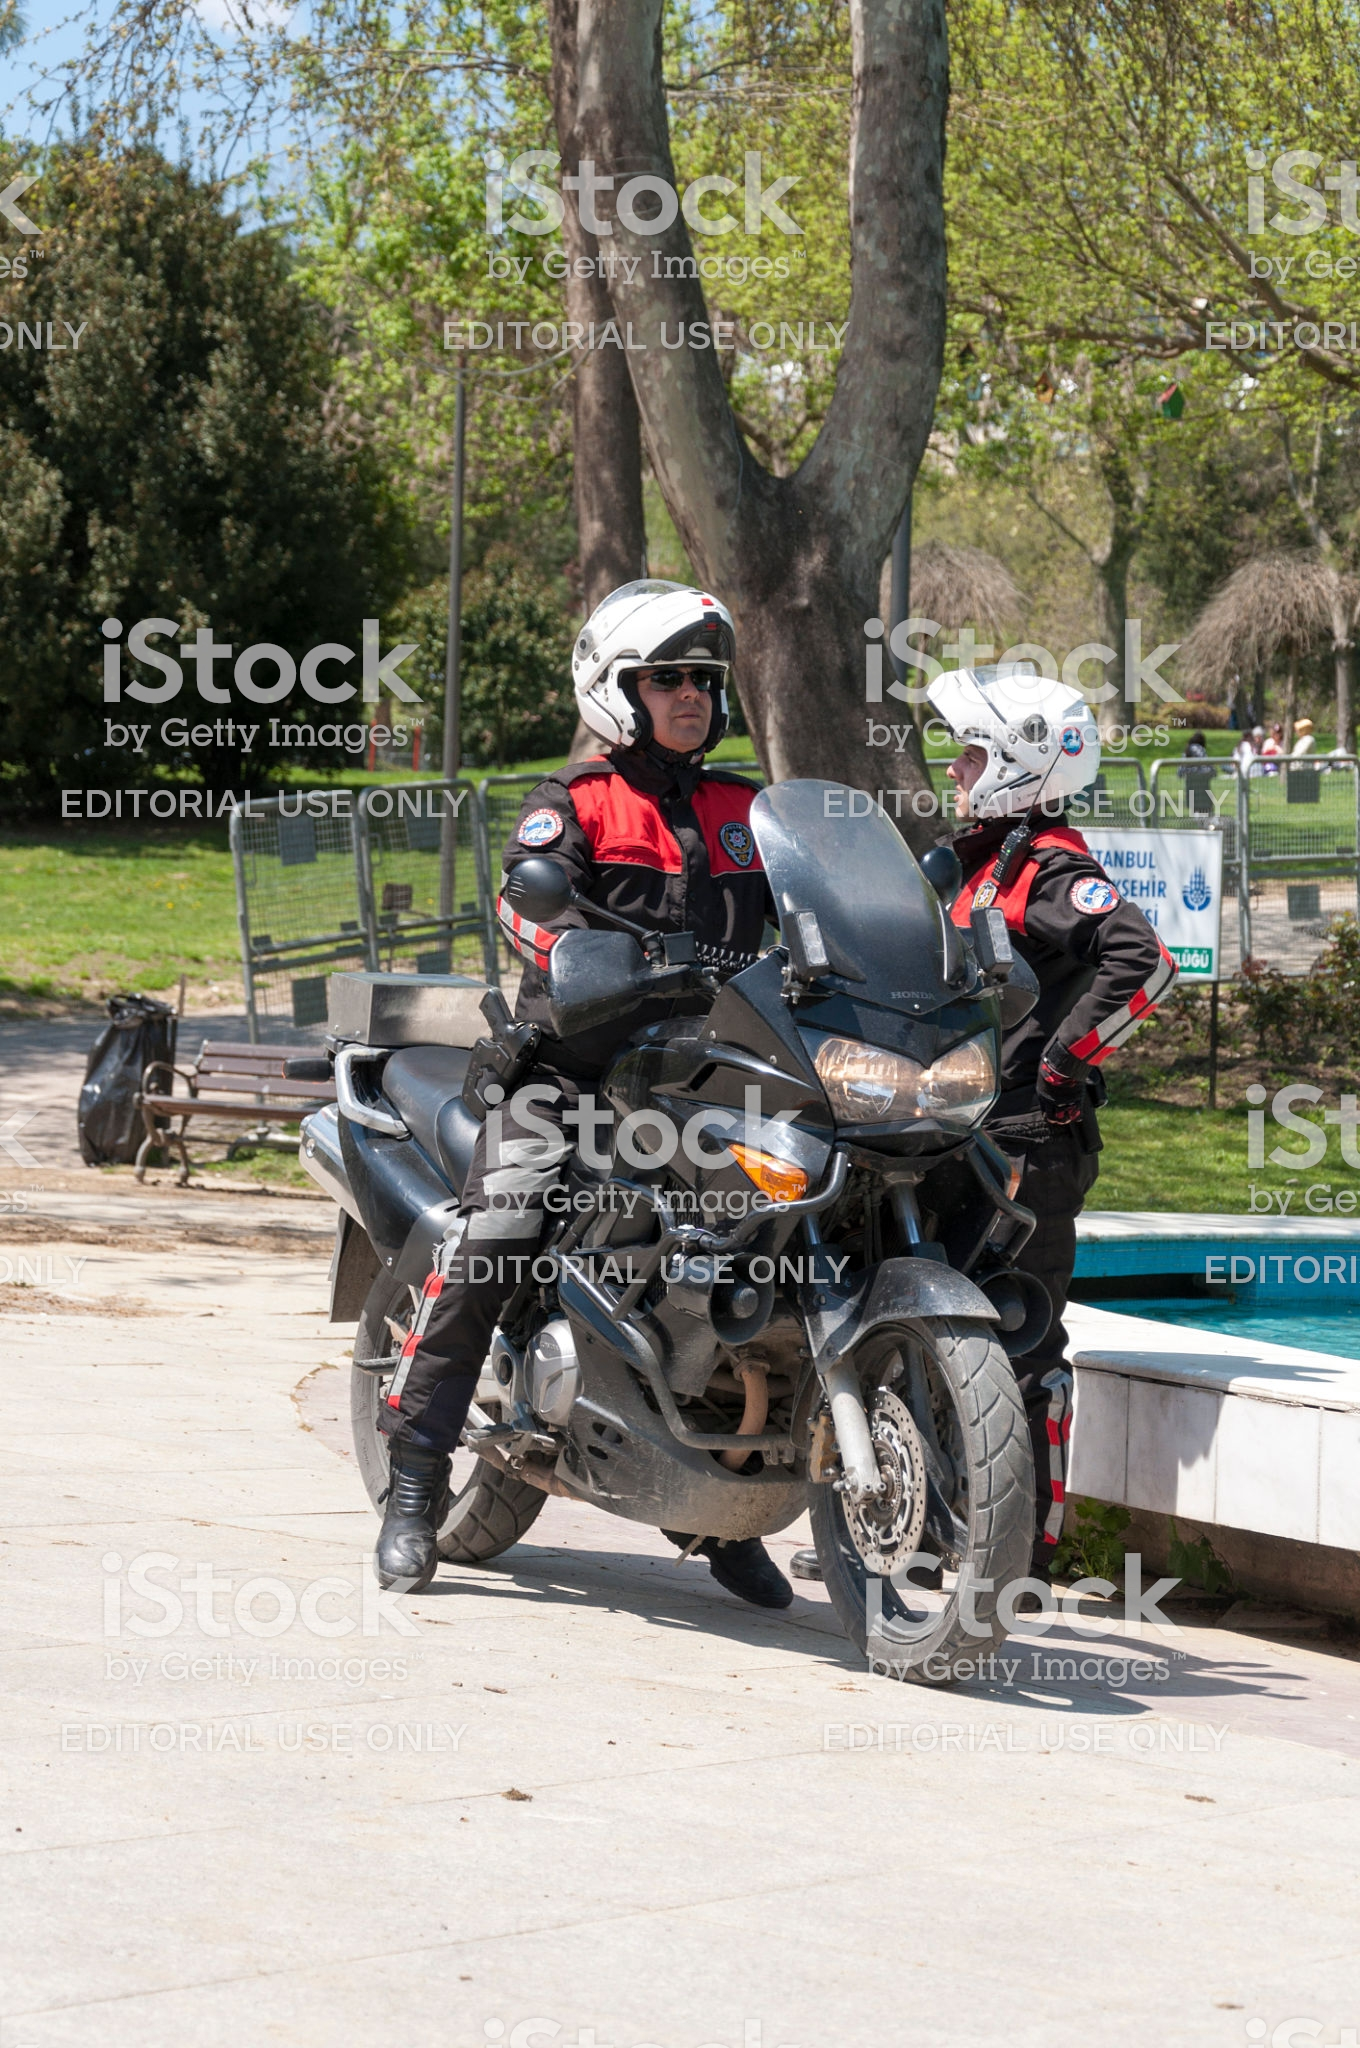helmet: (551, 586, 763, 752), (902, 660, 1107, 816)
